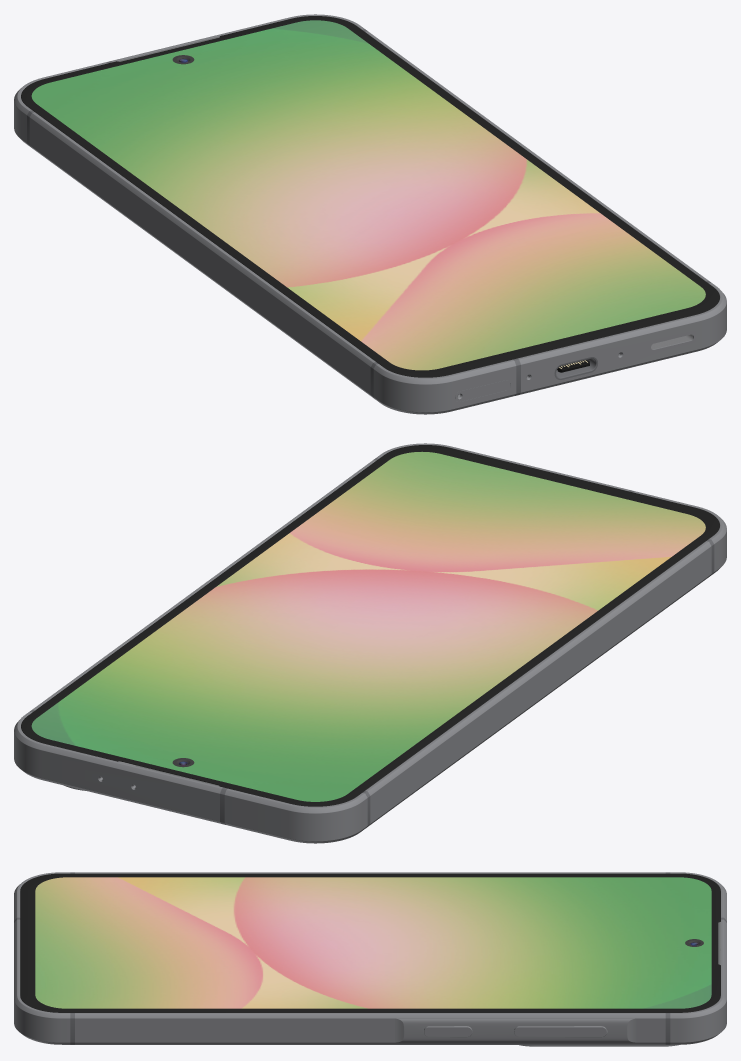
File: galaxy-a57.glb
3 renders of one model, top to bottom at view 1: azimuth 30°, elevation 25°; view 2: azimuth 150°, elevation 25°; view 3: azimuth 270°, elevation 25°, orthographic. The views are drawn at different scales.
Parts seen in each view (by area): view 1: Front, Metal Frame Body; view 2: Front, Metal Frame Body; view 3: Front, Metal Frame Body, Rear Camera.
Part boxes in pixels (x1,y1,x2,y2): Front: [21, 16, 719, 377]; Metal Frame Body: [14, 14, 726, 414]; Front: [21, 445, 719, 806]; Metal Frame Body: [14, 443, 726, 843]; Front: [20, 873, 720, 1012]; Metal Frame Body: [14, 872, 726, 1044]; Rear Camera: [514, 1030, 680, 1046].
Size of the model in its own units: 0.0783 by 0.0108 by 0.1622.
Materials: 22 (4 with a texture image).
